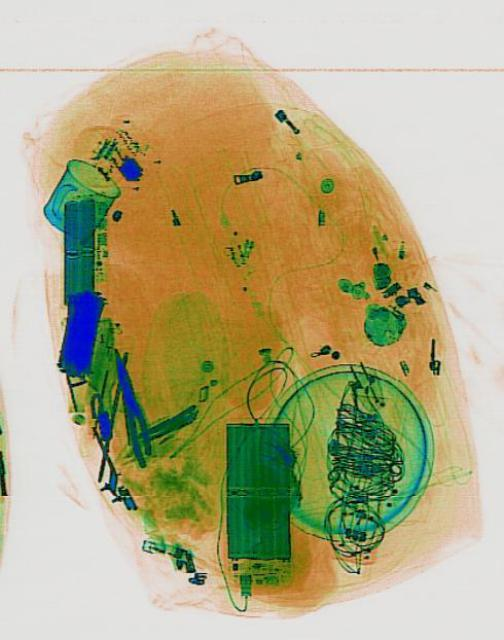Pliers: (101, 341, 156, 469)
